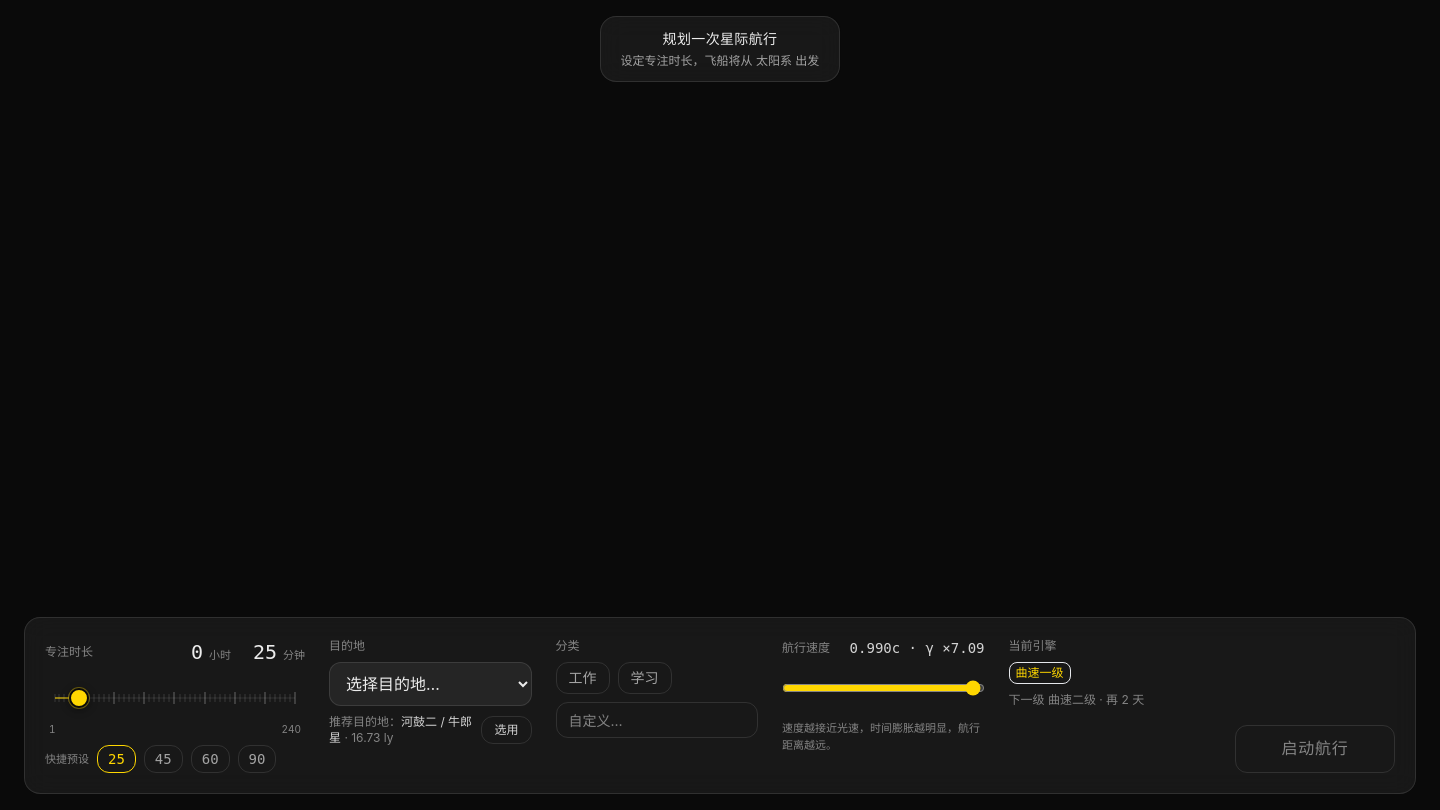
Test: SetupPanel › 引擎解锁（S27）：累计 10h 解锁曲速一级，织女星 25 分钟需曲速二级 → 升级路径指向曲速二级
The width and height of the screenshot is (1440, 810).
Check: the element with test id "engine-status" shows "曲速一级", box [1016,665,1064,680]
Select "织女一 (天琴座 α Vega) · 25.04 ly" in the dropdown labelled "目的地" at (430, 684), box [329,662,532,706]
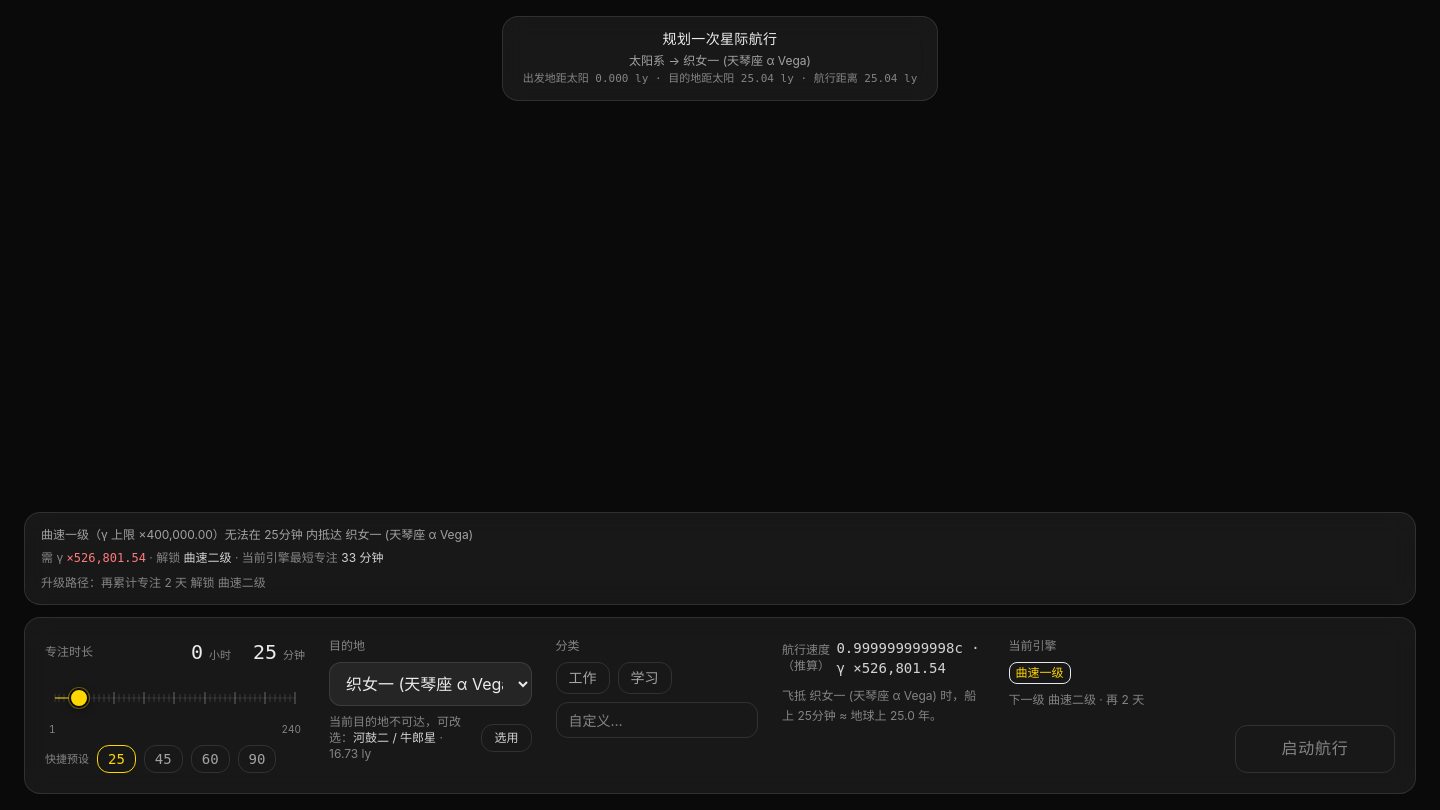
Check: the element with test id "unreachable-warning" shows "曲速一级", box [41,526,473,542]
Check: the element with test id "unreachable-warning" shows "解锁 曲速二级", box [41,574,266,590]
Check: the element with test id "unreachable-warning" shows "升级路径", box [41,574,266,590]
